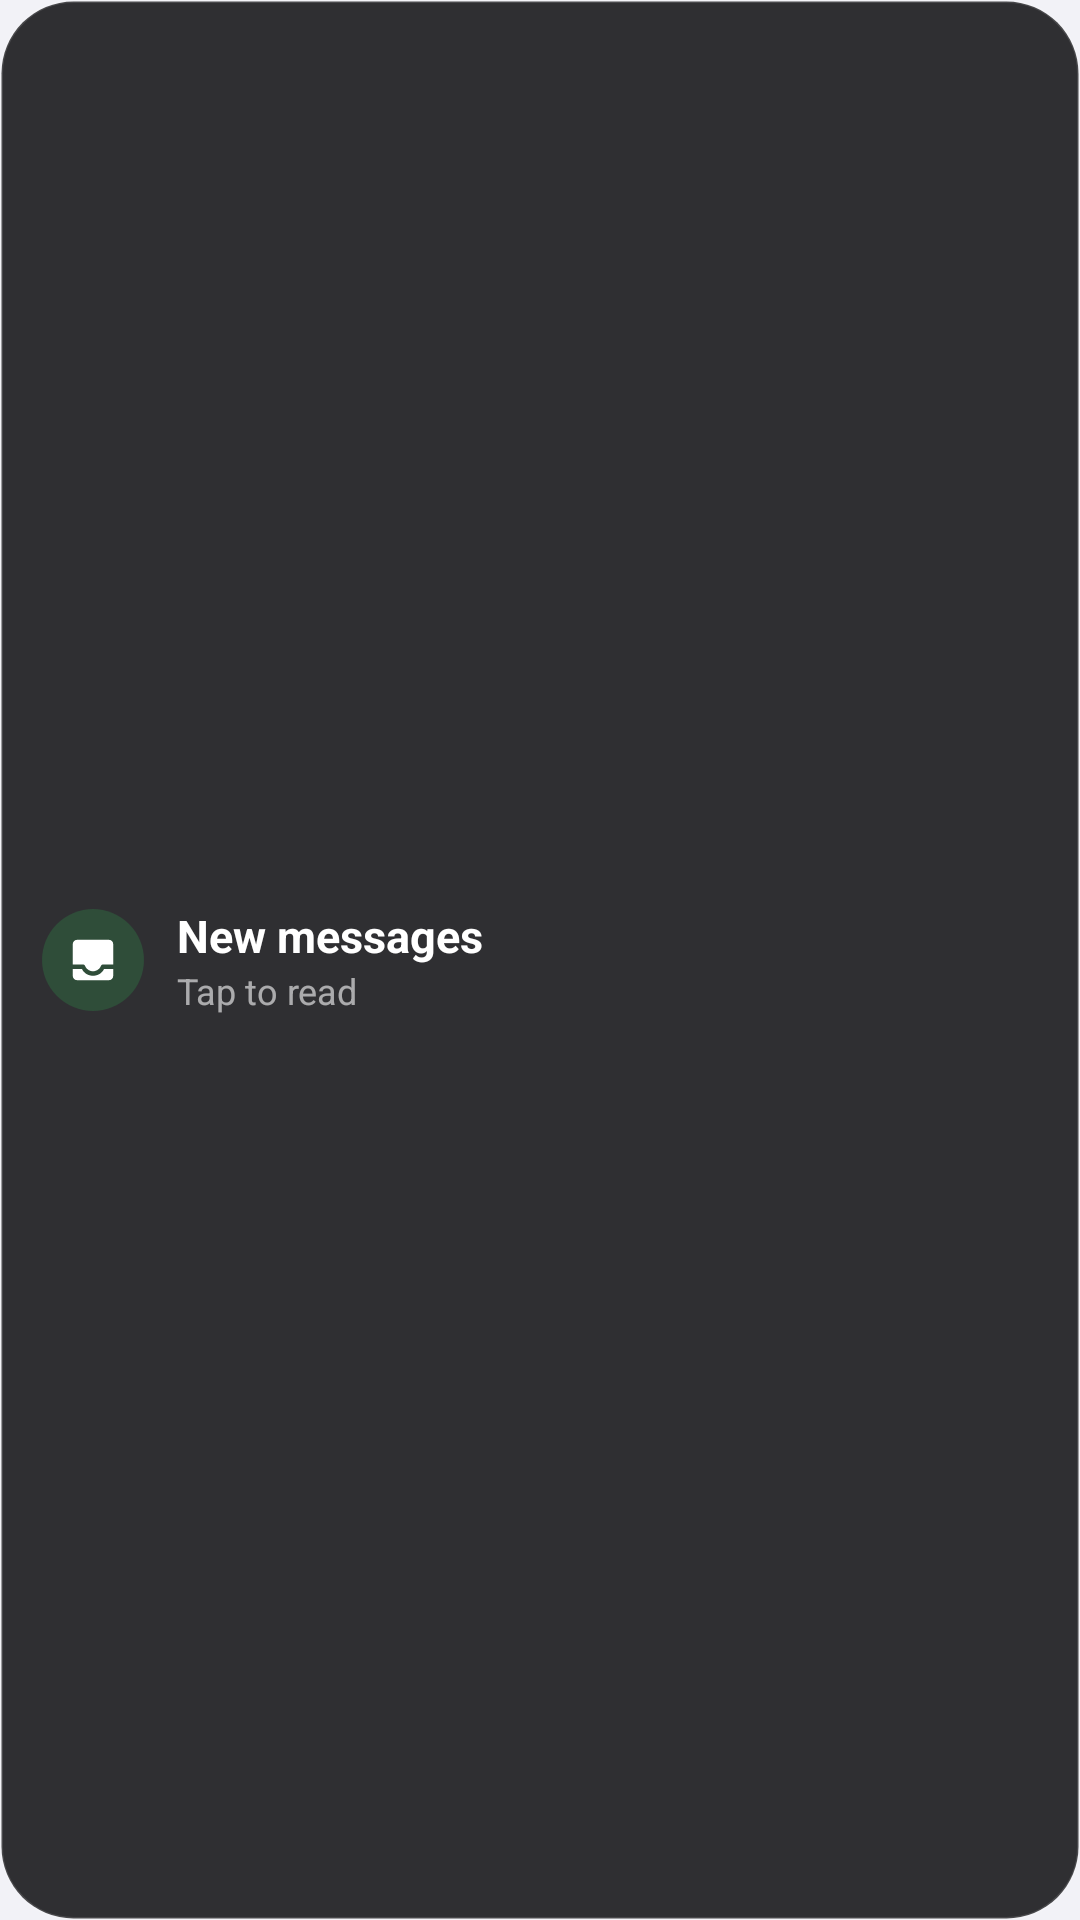

Named icons in this screenshot (1080×1920) and their centers, [x,y]:
inbox: [93,960]
